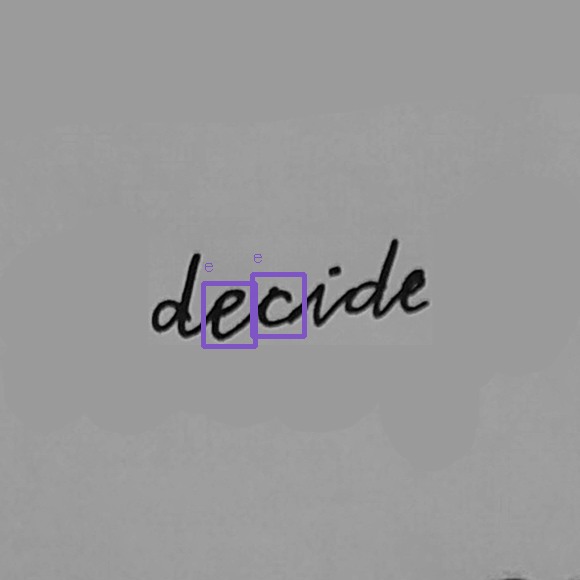c: (255, 282, 296, 332)
d: (148, 249, 204, 342), (344, 236, 399, 322)
e: (209, 282, 247, 342), (396, 267, 433, 315)
i: (308, 263, 343, 330)
